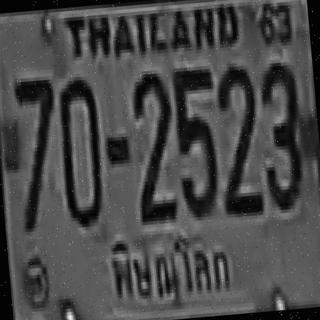N00: (55, 72, 104, 225)
N02: (212, 60, 263, 213), (128, 68, 178, 220)
N03: (254, 58, 305, 208)
N05: (170, 64, 220, 217)
N07: (11, 76, 62, 229)
P46: (102, 224, 237, 316)
